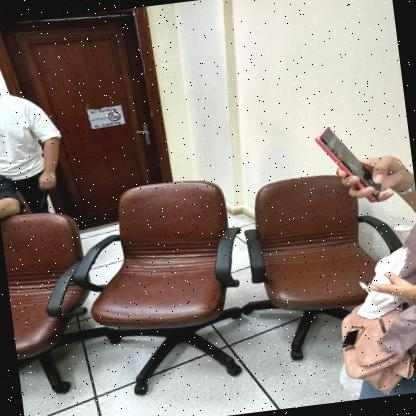chair: (67, 167, 262, 408), (234, 157, 414, 365), (0, 201, 121, 416)
